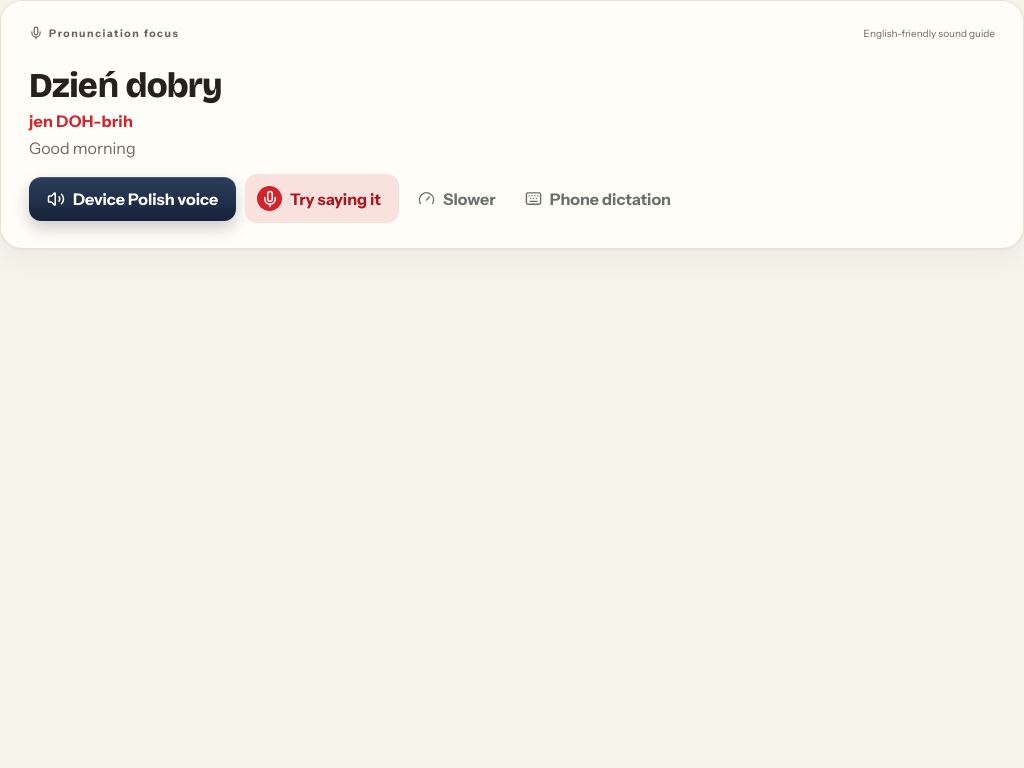
Scenario: mobile pronunciation input › offers Polish keyboard dictation when live recognition is unavailable
Click the button "Try saying it" at (322,198), box [245, 174, 399, 223]
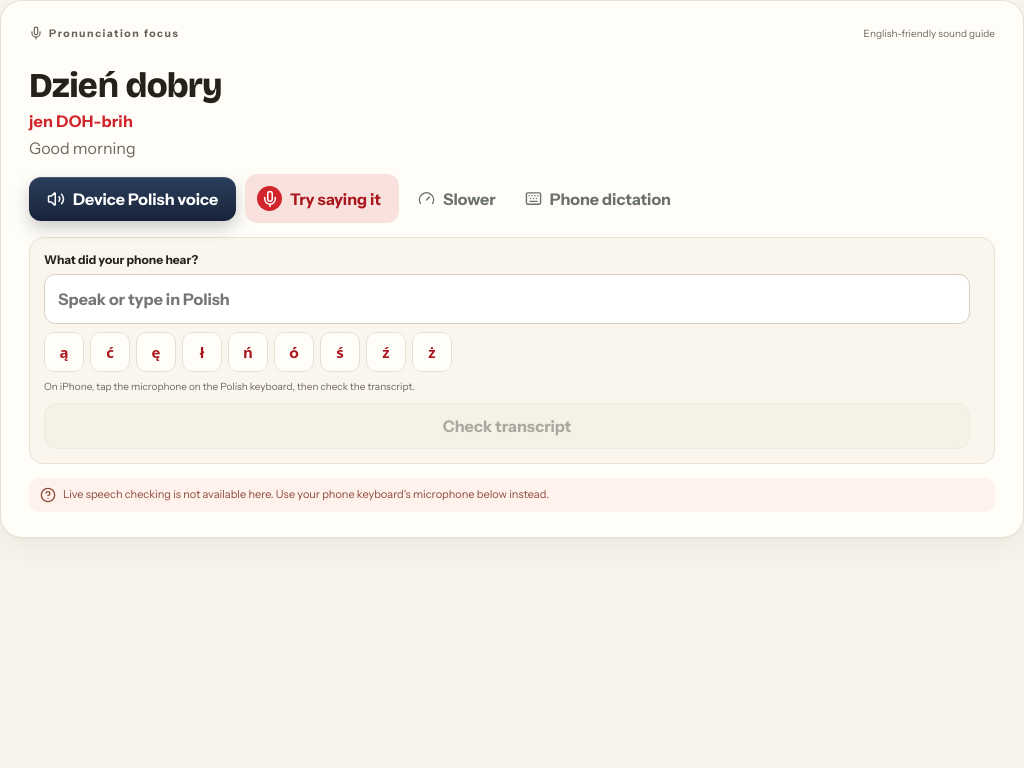
Type "Dzień dobry" into the field labelled "What did your phone hear?" at (507,299), box [44, 274, 970, 324]
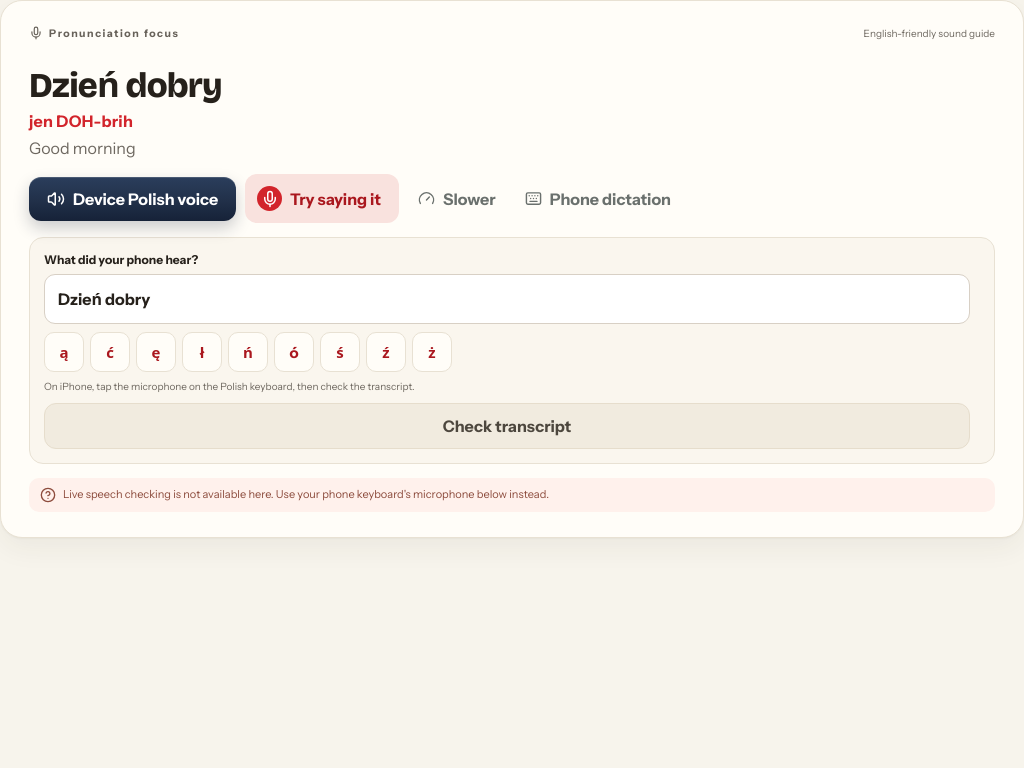
Click the button "Check transcript" at (507,426), box [44, 402, 970, 448]
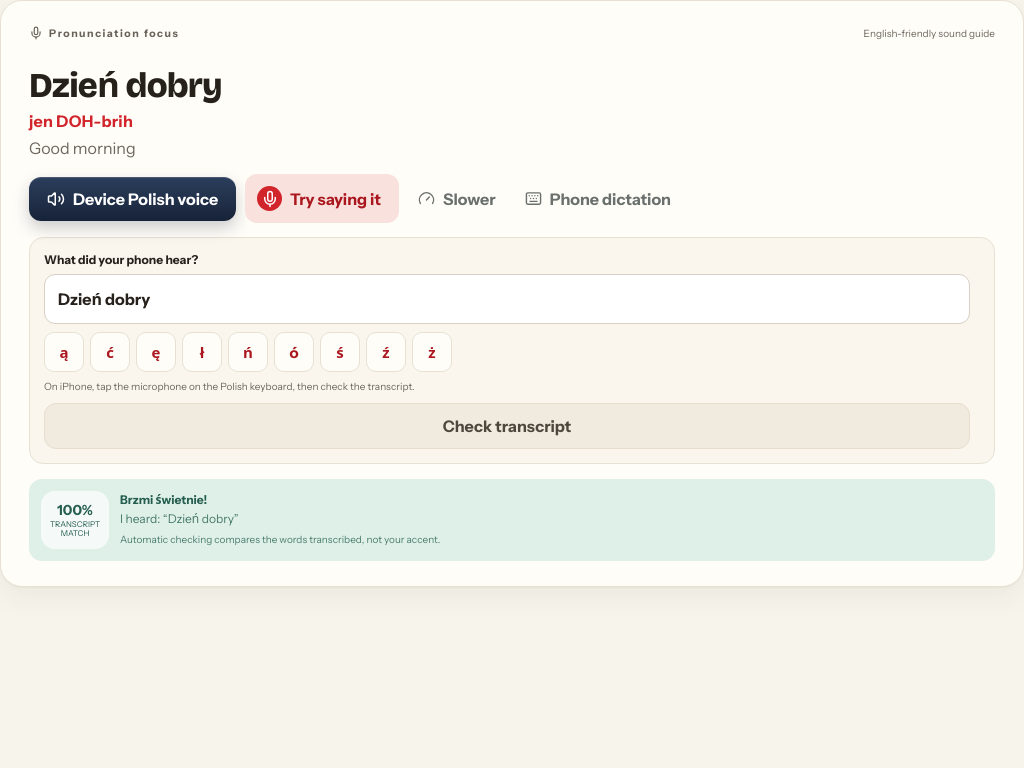
Result: the text "100%" is shown at [57, 501, 93, 519]
Result: the message shows "transcript match" at [50, 519, 100, 538]
Result: the message shows "compares the words transcribed, not your accent" at [120, 533, 440, 546]
